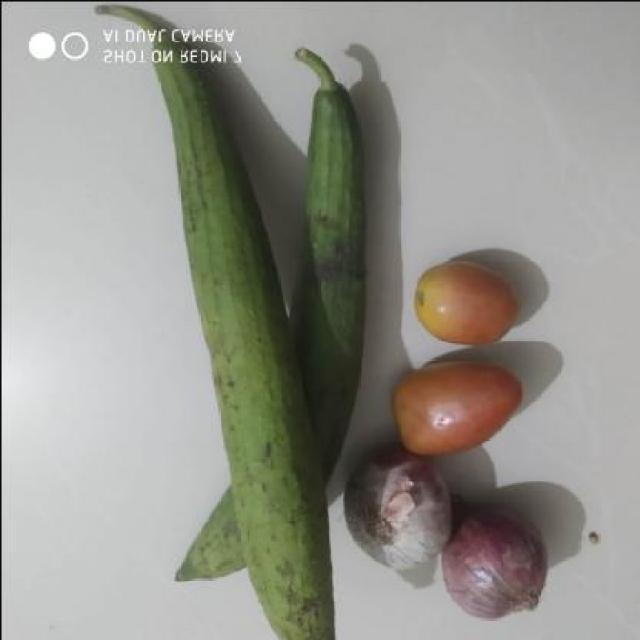Onion: (438, 497, 554, 623), (349, 457, 449, 572)
Sponge Gourd: (134, 0, 348, 634)
Tomato: (394, 358, 530, 464), (409, 256, 529, 346)
